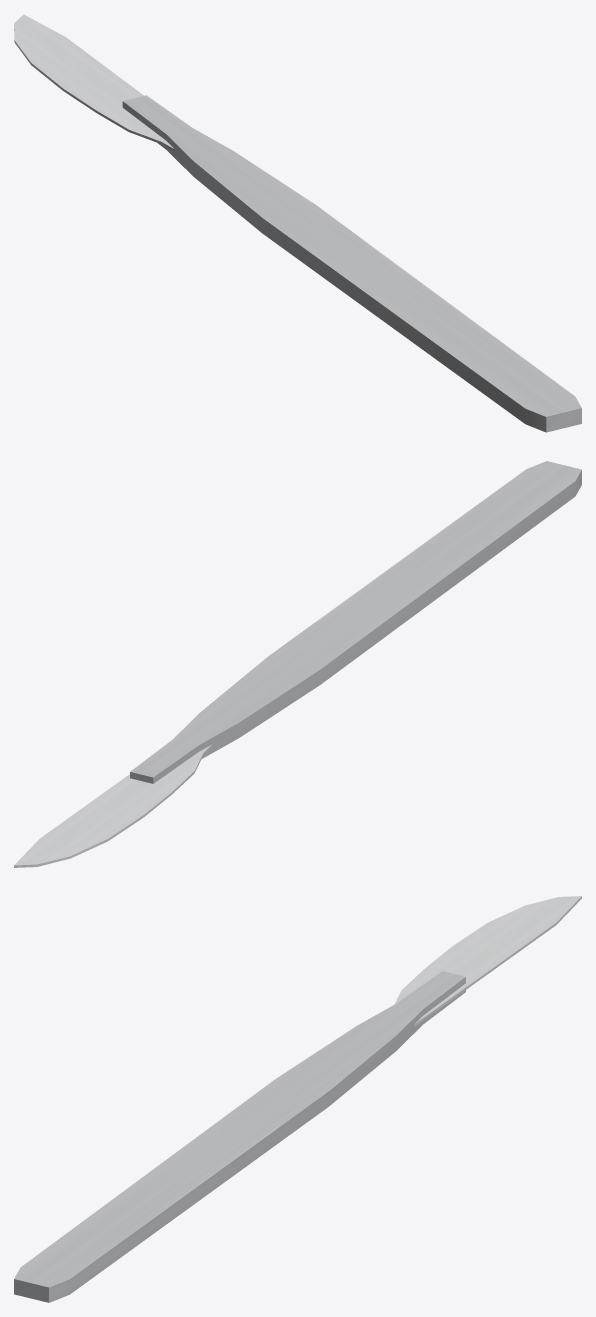
File: s1_scalpel_10.glb
3 renders of one model, top to bottom at view 1: azimuth 30°, elevation 25°; view 2: azimuth 150°, elevation 25°; view 3: azimuth 330°, elevation 25°, orthographic.
Visible parts, largest first — view 1: s1_scalpel_10; view 2: s1_scalpel_10; view 3: s1_scalpel_10.
Boxes of the visible parts, x1,y1,x2,y2 form: s1_scalpel_10: (14,14,581,432); s1_scalpel_10: (14,461,581,867); s1_scalpel_10: (14,896,581,1302).
Size of the model in its own units: 0.0107 by 0.0025 by 0.16.
Materials: 1 (1 with a texture image).
